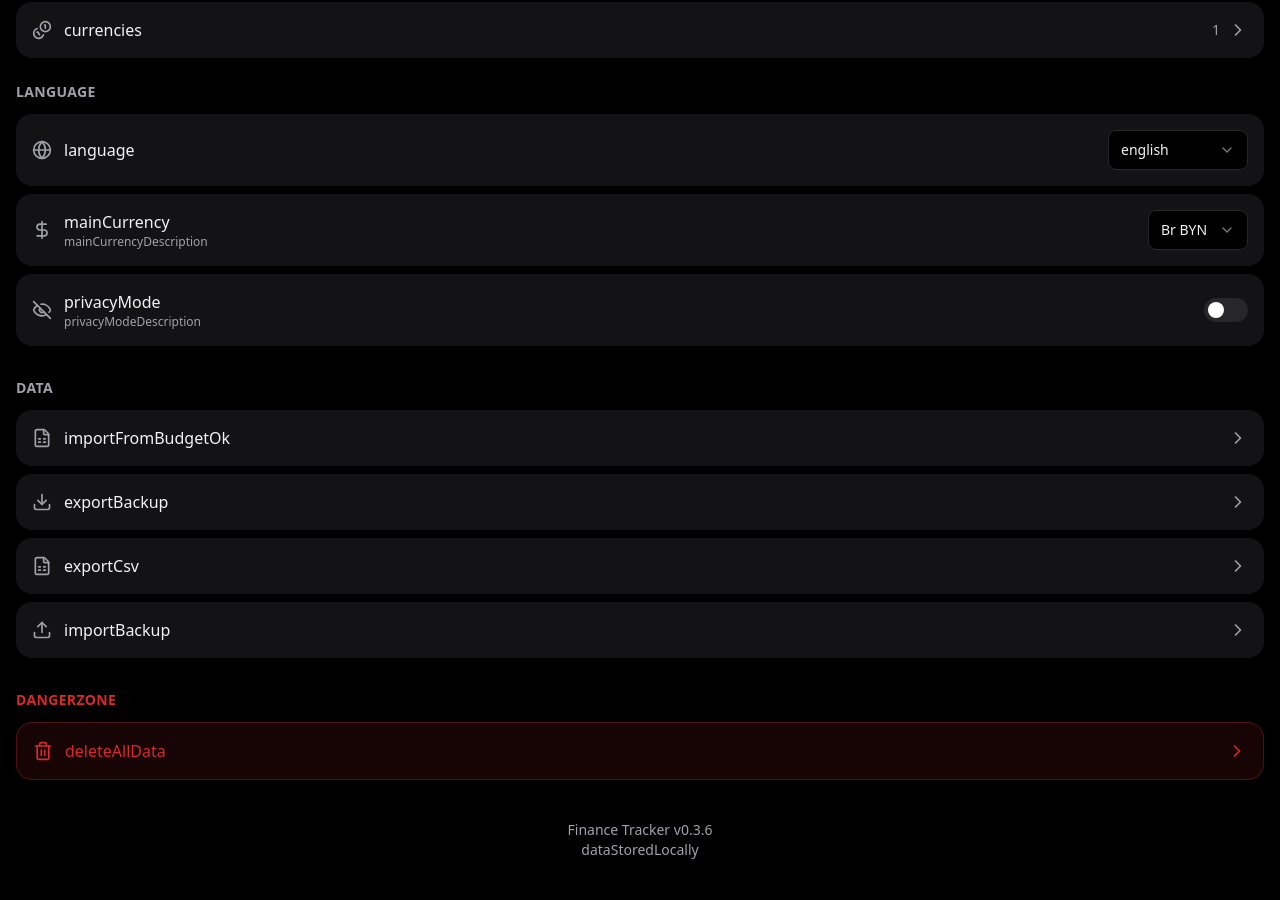
SettingsPage main view › deletes all data after confirmation
(page scrolled)
Click the button "deleteAllData" at [115, 751], box top-left (16, 722), bottom-right (1264, 780)
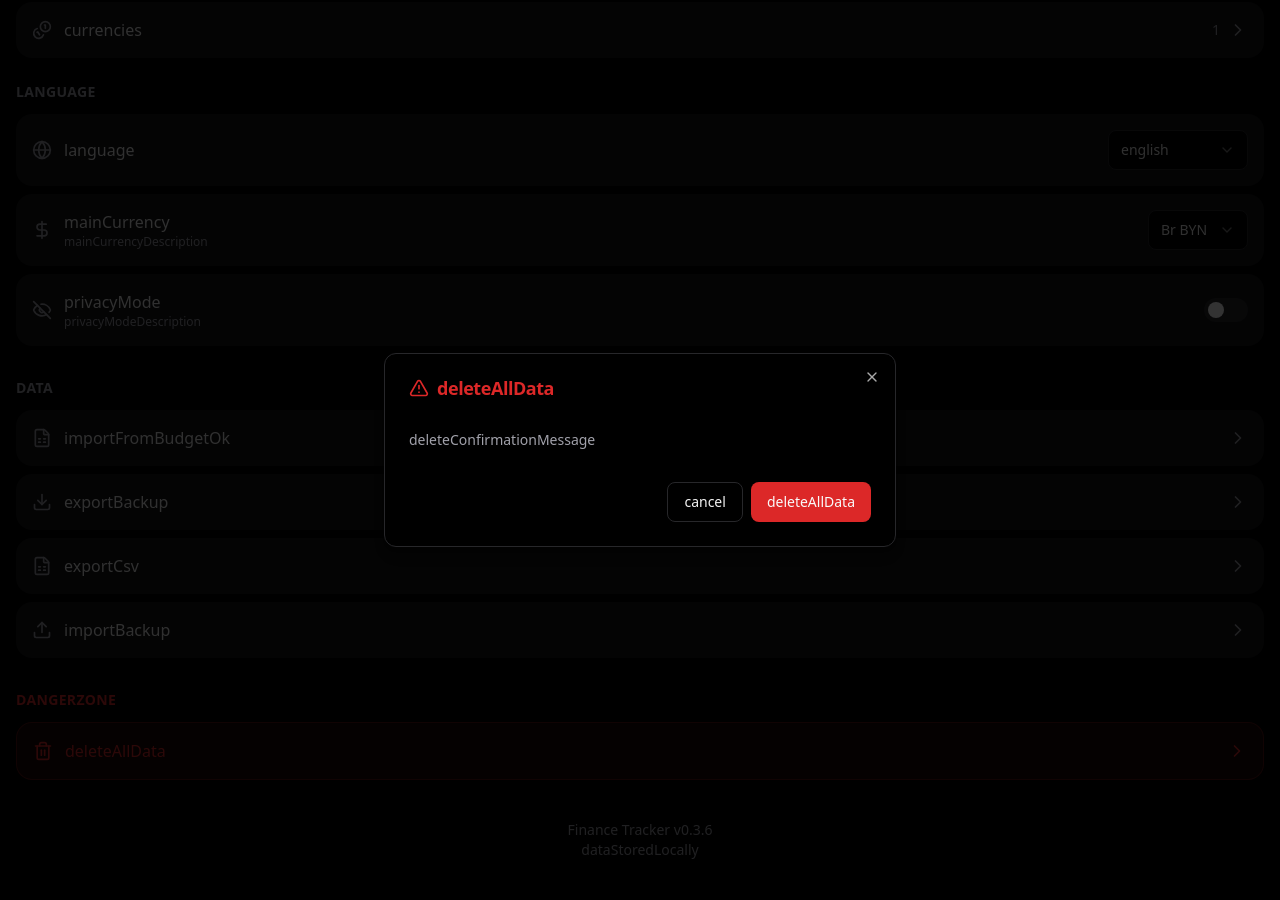
Click the button "cancel" at [705, 502], box top-left (667, 482), bottom-right (743, 522)
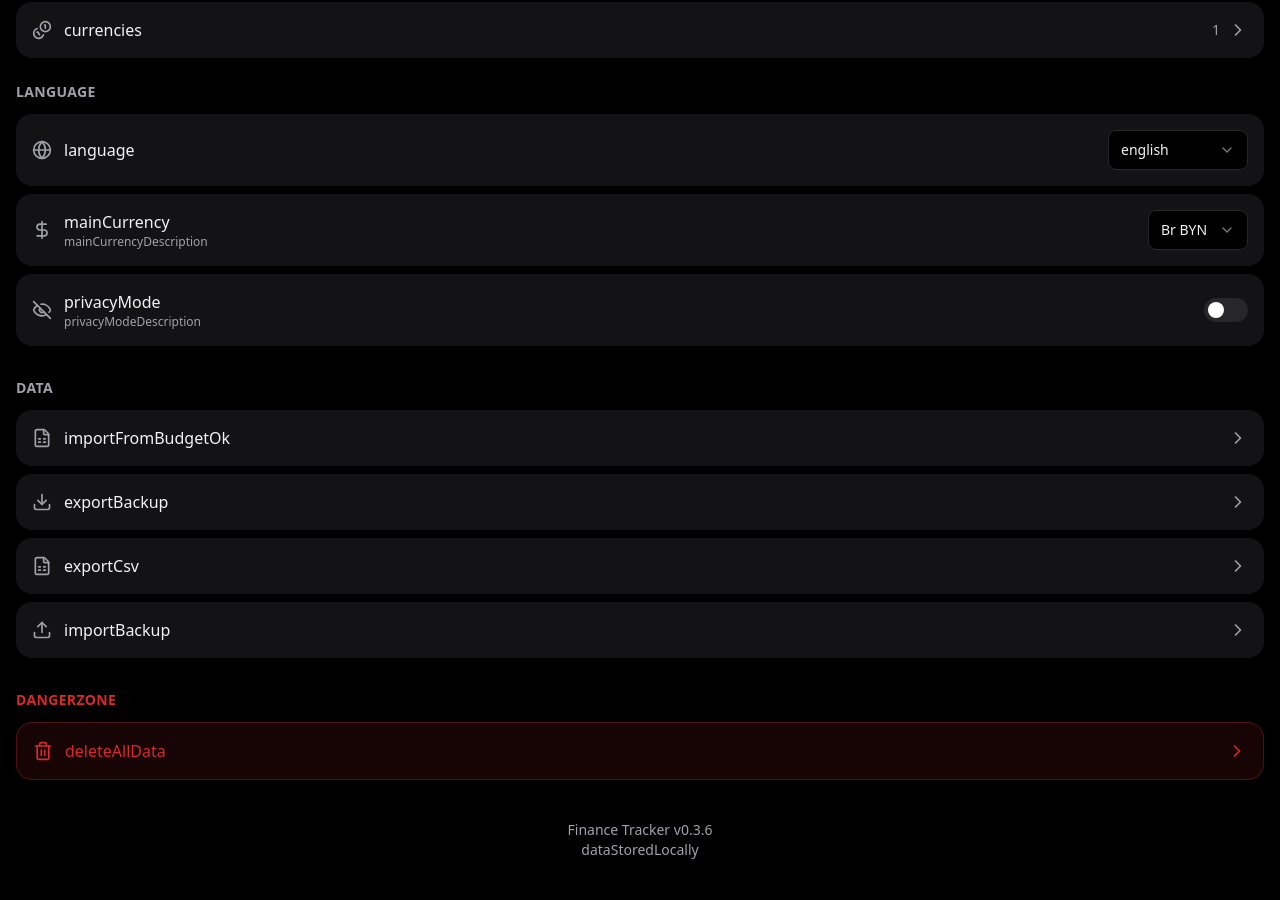
Now the dialog is gone
Click the button "deleteAllData" at [115, 751], box top-left (16, 722), bottom-right (1264, 780)
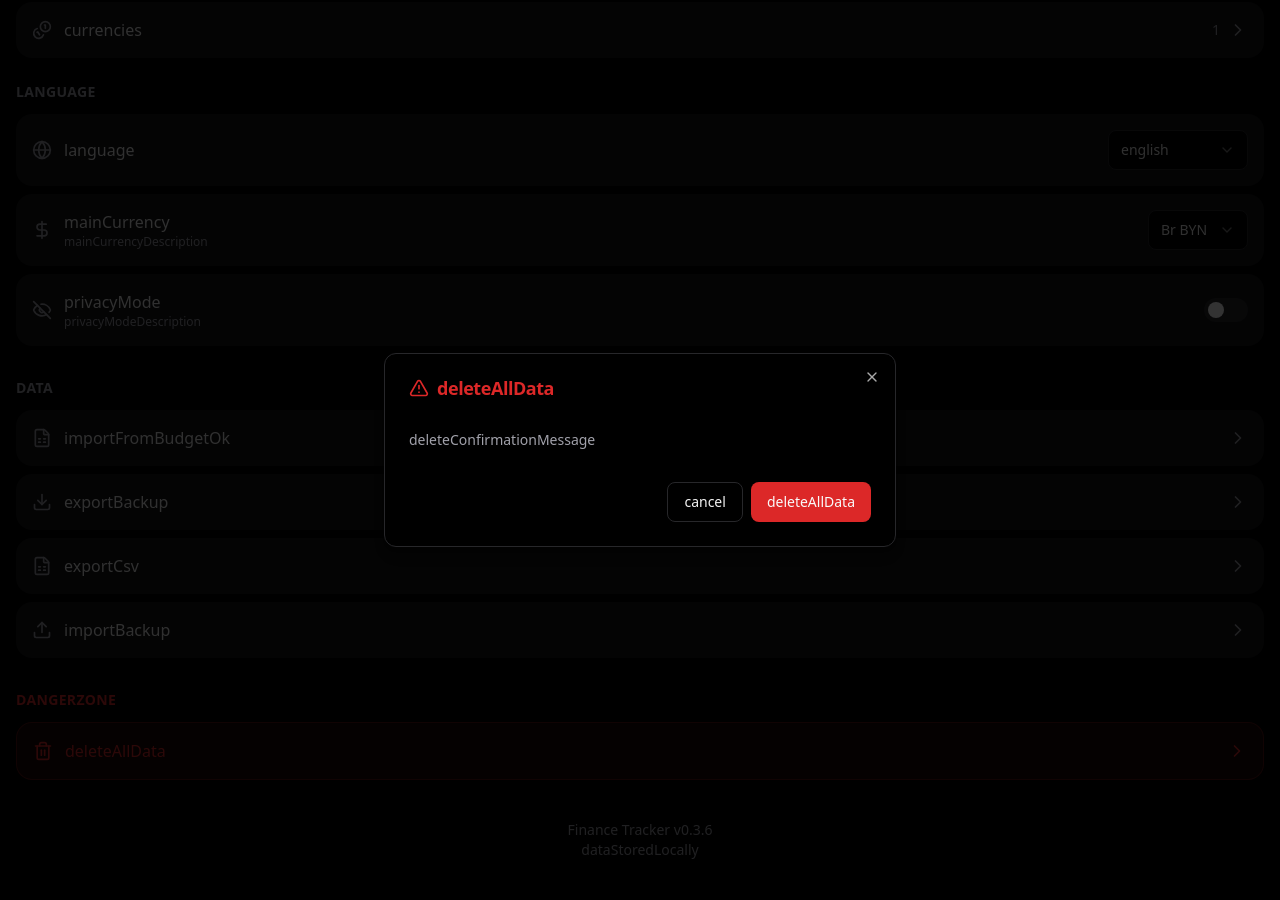
Click the button "deleteAllData" at [811, 502], box top-left (751, 482), bottom-right (871, 522)
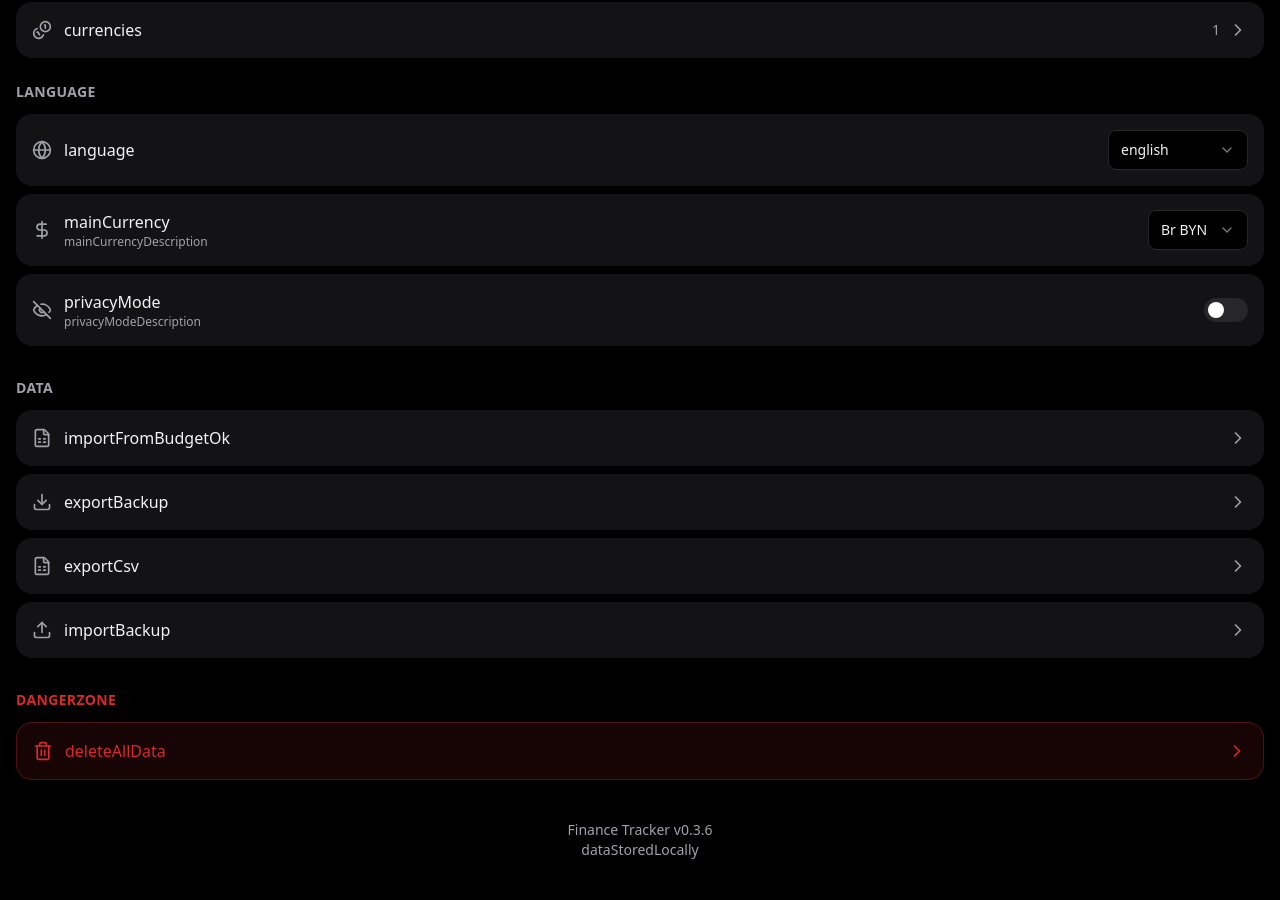
Now the dialog is gone
